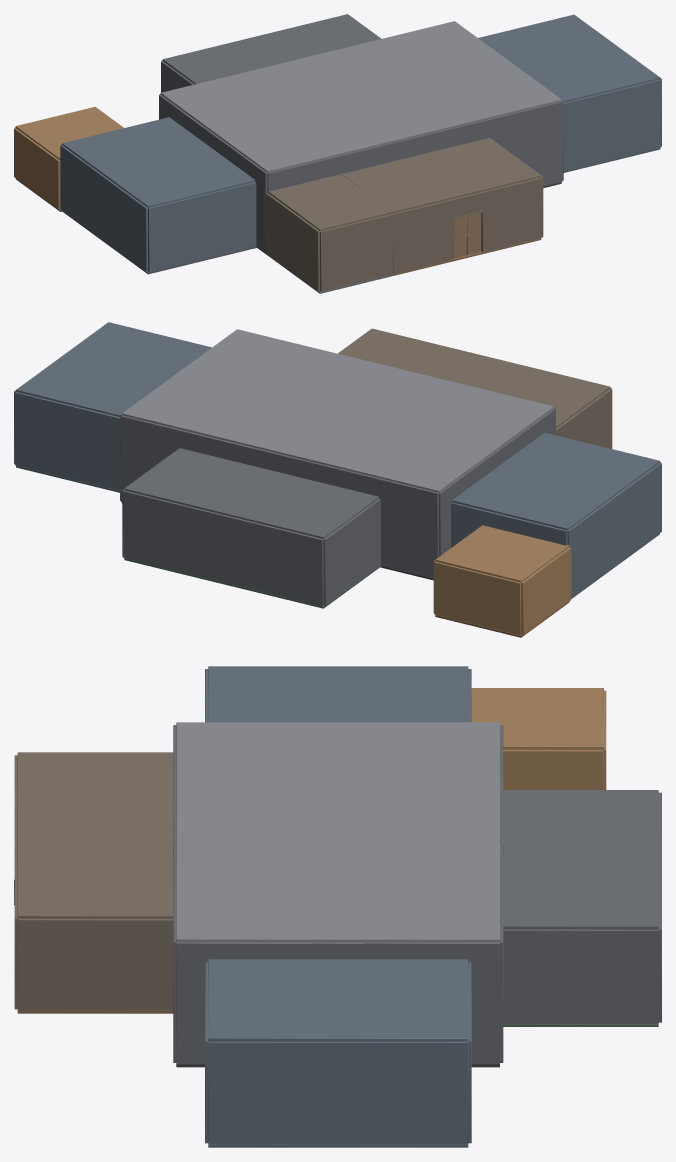
The model's file is gym_env.glb.
The picture shows the model from 3 angles, top to bottom: view 1: azimuth 30°, elevation 25°; view 2: azimuth 150°, elevation 25°; view 3: azimuth 270°, elevation 25°; orthographic projection. The views are drawn at different scales.
Visible parts, largest first — view 1: SM_Env_Ceil_Main, SM_Env_Ceil_Lock, SM_Env_Ceil_Cardio, SM_Env_Ceil_Recep, SM_Env_Lock_S, SM_Env_Card_S, SM_Env_Ceil_Bar, SM_Env_Lock_W, SM_Env_Main_S_B, SM_Env_WC_S, SM_Env_Ceil_WC, SM_Env_Recep_S_B (+13 smaller); view 2: SM_Env_Ceil_Main, SM_Env_Bar_N, SM_Env_Ceil_Bar, SM_Env_Ceil_Lock, SM_Env_Ceil_Cardio, SM_Env_Card_N, SM_Env_Main_N_A, SM_Env_Lock_W, SM_Env_Ceil_Recep, SM_Env_Sauna_N, SM_Env_Main_N_B, SM_Env_Ceil_Sauna (+10 smaller); view 3: SM_Env_Ceil_Main, SM_Env_Card_E, SM_Env_Ceil_Bar, SM_Env_Ceil_Cardio, SM_Env_Ceil_Recep, SM_Env_Ceil_Lock, SM_Env_Bar_E, SM_Env_Recep_E, SM_Env_Ceil_WC, SM_Env_Ceil_Sauna, SM_Env_Main_E_A, SM_Env_Main_E_B (+8 smaller).
Part boxes in pixels (x1=…): SM_Env_Ceil_Main: x1=160, y1=21, x2=561, y2=172; SM_Env_Ceil_Lock: x1=62, y1=117, x2=255, y2=207; SM_Env_Ceil_Cardio: x1=478, y1=14, x2=660, y2=102; SM_Env_Ceil_Recep: x1=341, y1=138, x2=541, y2=213; SM_Env_Lock_S: x1=148, y1=182, x2=256, y2=272; SM_Env_Card_S: x1=563, y1=79, x2=661, y2=170; SM_Env_Ceil_Bar: x1=162, y1=14, x2=381, y2=84; SM_Env_Lock_W: x1=60, y1=145, x2=147, y2=271; SM_Env_Main_S_B: x1=429, y1=101, x2=562, y2=186; SM_Env_WC_S: x1=320, y1=213, x2=393, y2=291; SM_Env_Ceil_WC: x1=267, y1=174, x2=392, y2=230; SM_Env_Recep_S_B: x1=481, y1=177, x2=542, y2=252; SM_Env_Ceil_Main: x1=122, y1=329, x2=553, y2=492; SM_Env_Bar_N: x1=123, y1=490, x2=323, y2=606; SM_Env_Ceil_Bar: x1=124, y1=448, x2=378, y2=538; SM_Env_Ceil_Lock: x1=452, y1=432, x2=659, y2=530; SM_Env_Ceil_Cardio: x1=16, y1=322, x2=211, y2=416; SM_Env_Card_N: x1=14, y1=392, x2=119, y2=490; SM_Env_Main_N_A: x1=295, y1=458, x2=438, y2=578; SM_Env_Lock_W: x1=567, y1=463, x2=661, y2=597; SM_Env_Ceil_Recep: x1=338, y1=328, x2=531, y2=392; SM_Env_Sauna_N: x1=434, y1=561, x2=521, y2=635; SM_Env_Main_N_B: x1=121, y1=415, x2=264, y2=502; SM_Env_Ceil_Sauna: x1=435, y1=525, x2=569, y2=582; SM_Env_Ceil_Main: x1=176, y1=722, x2=499, y2=941; SM_Env_Card_E: x1=208, y1=1041, x2=468, y2=1144; SM_Env_Ceil_Bar: x1=503, y1=790, x2=658, y2=929; SM_Env_Ceil_Cardio: x1=208, y1=959, x2=468, y2=1041; SM_Env_Ceil_Recep: x1=17, y1=806, x2=173, y2=918; SM_Env_Ceil_Lock: x1=208, y1=666, x2=468, y2=722; SM_Env_Bar_E: x1=503, y1=929, x2=658, y2=1023; SM_Env_Recep_E: x1=17, y1=918, x2=173, y2=1010; SM_Env_Ceil_WC: x1=17, y1=752, x2=173, y2=805; SM_Env_Ceil_Sauna: x1=471, y1=688, x2=603, y2=749; SM_Env_Main_E_A: x1=176, y1=942, x2=312, y2=1064; SM_Env_Main_E_B: x1=364, y1=942, x2=499, y2=1064.
Size of the model in its own units: 28.5 by 4.45 by 20.42.
